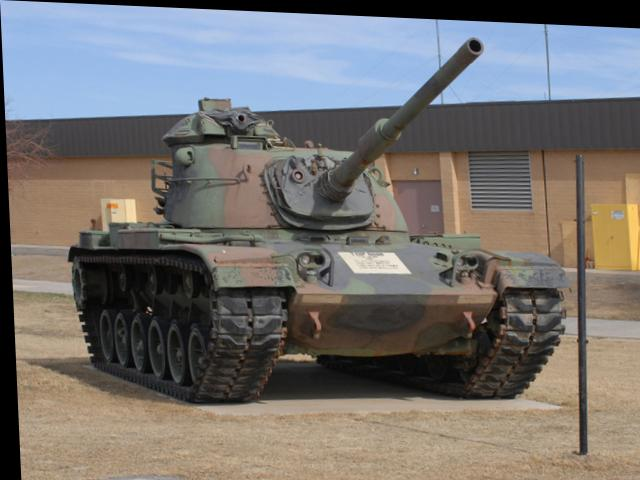tank: (55, 118, 539, 394)
